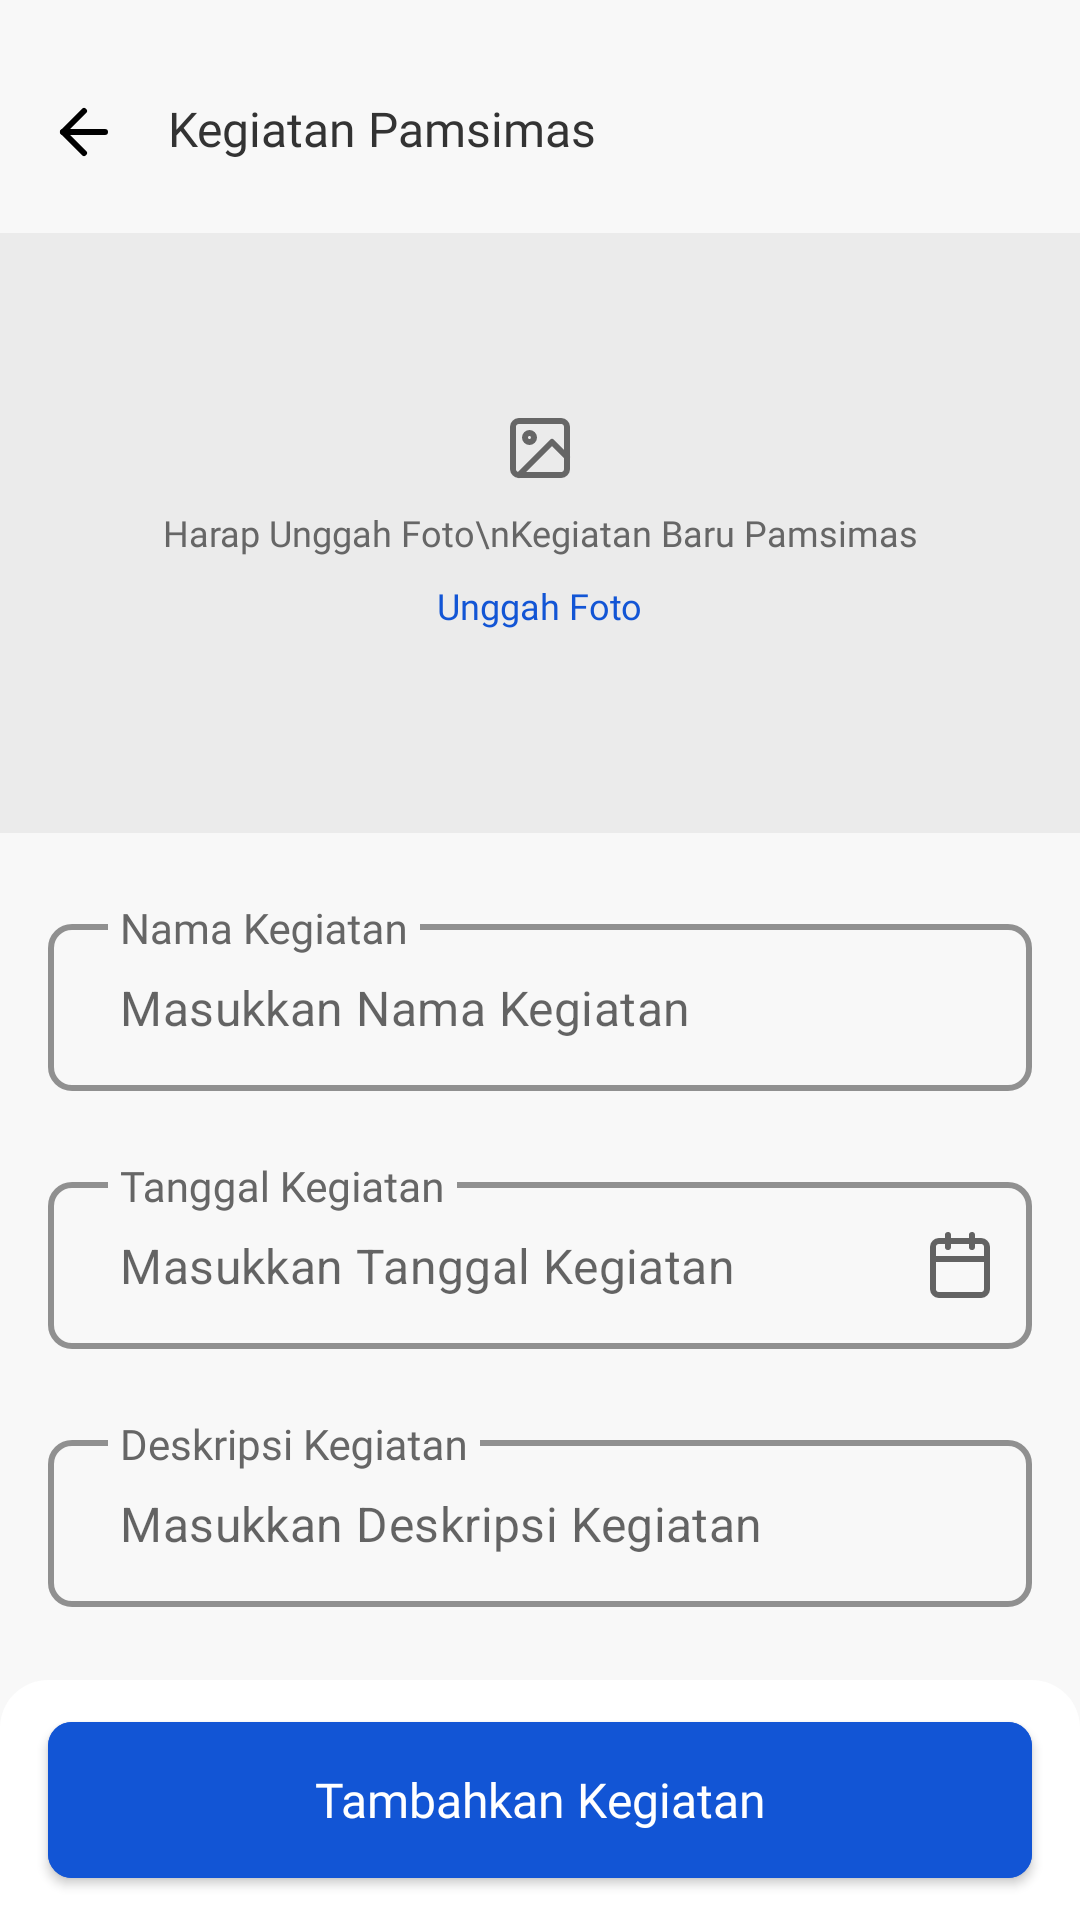

Icons on this 1080×1920 Android screen, each with the point to tap as point (x, y):
back: point (84, 132)
